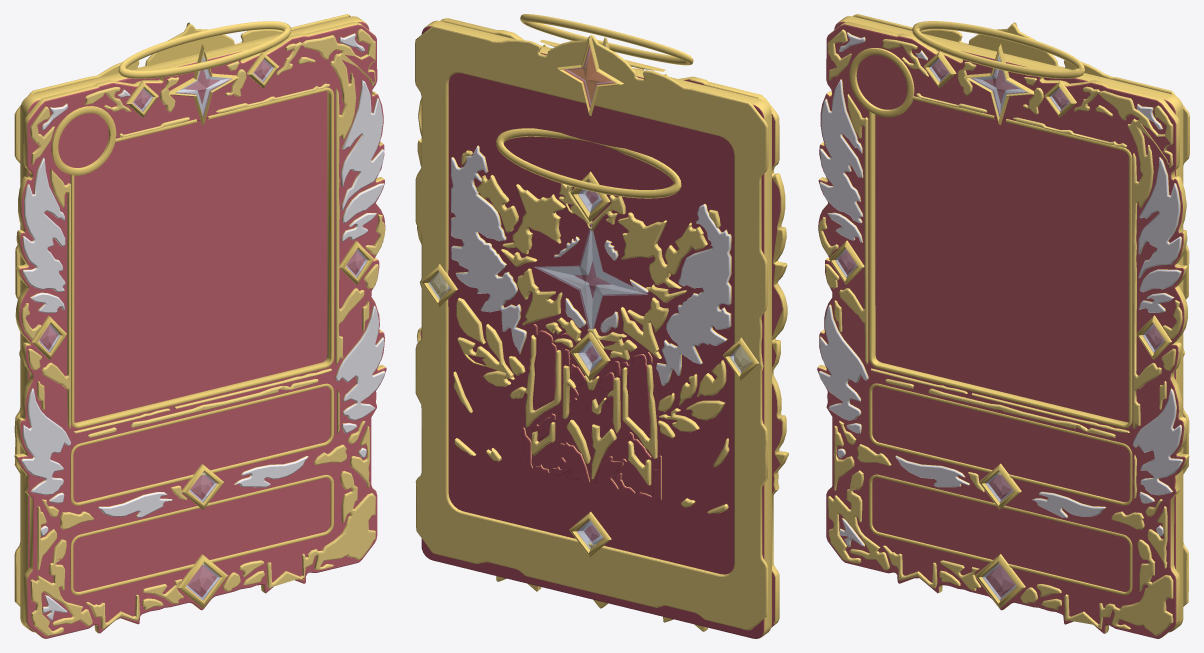
File: card-skin-champion.glb
3 views of the same model, side by side, from view 1: azimuth 30°, elevation 25°; view 2: azimuth 150°, elevation 25°; view 3: azimuth 330°, elevation 25° (orthographic).
Visible parts, largest first — view 1: slab.007, front-frame.003, front-gold-sculpt.001, front-angel-wings, name-plate.007, stat-plate.007, gem-bezels.002, rim-window.007, back-frame.003, prism-gems, front-halo, rim-name.007 (+4 smaller); view 2: slab.007, back-frame.003, back-emblem-gold.001, back-emblem-wings, back-emblem-banners.001, front-frame.003, prism-gems, gem-bezels.002, gem-foils.003, back-halo, front-halo, back-top-ruby-star (+1 smaller); view 3: slab.007, front-frame.003, front-gold-sculpt.001, front-angel-wings, name-plate.007, stat-plate.007, rim-window.007, gem-bezels.002, back-frame.003, prism-gems, front-halo, rim-name.007 (+4 smaller).
Boxes of the visible parts, left/top/right/bottom form: slab.007: left=20, top=16, right=369, bottom=632; front-frame.003: left=14, top=22, right=386, bottom=638; front-gold-sculpt.001: left=21, top=29, right=385, bottom=635; front-angel-wings: left=21, top=33, right=385, bottom=620; name-plate.007: left=73, top=386, right=330, bottom=502; stat-plate.007: left=73, top=477, right=330, bottom=591; gem-bezels.002: left=31, top=22, right=374, bottom=608; rim-window.007: left=70, top=87, right=333, bottom=428; back-frame.003: left=14, top=14, right=350, bottom=606; prism-gems: left=39, top=55, right=367, bottom=600; front-halo: left=118, top=21, right=291, bottom=78; rim-name.007: left=70, top=383, right=333, bottom=505; slab.007: left=421, top=20, right=771, bottom=638; back-frame.003: left=415, top=25, right=768, bottom=630; back-emblem-gold.001: left=453, top=150, right=729, bottom=513; back-emblem-wings: left=451, top=145, right=731, bottom=385; back-emblem-banners.001: left=523, top=324, right=661, bottom=500; front-frame.003: left=417, top=18, right=788, bottom=631; prism-gems: left=428, top=44, right=751, bottom=548; gem-bezels.002: left=421, top=35, right=758, bottom=556; gem-foils.003: left=429, top=47, right=751, bottom=548; back-halo: left=496, top=128, right=681, bottom=198; front-halo: left=520, top=14, right=693, bottom=65; back-top-ruby-star: left=563, top=45, right=615, bottom=108; slab.007: left=834, top=16, right=1183, bottom=632; front-frame.003: left=817, top=21, right=1189, bottom=638; front-gold-sculpt.001: left=818, top=29, right=1182, bottom=635; front-angel-wings: left=818, top=32, right=1182, bottom=546; name-plate.007: left=872, top=386, right=1129, bottom=502; stat-plate.007: left=872, top=477, right=1129, bottom=591; rim-window.007: left=869, top=96, right=1132, bottom=428; gem-bezels.002: left=829, top=22, right=1171, bottom=608; back-frame.003: left=853, top=14, right=1189, bottom=606; prism-gems: left=835, top=54, right=1164, bottom=600; front-halo: left=912, top=21, right=1084, bottom=78; rim-name.007: left=869, top=383, right=1132, bottom=505.
Bounding box in the file's own units: 0.9938 × 1.49 × 0.142.
